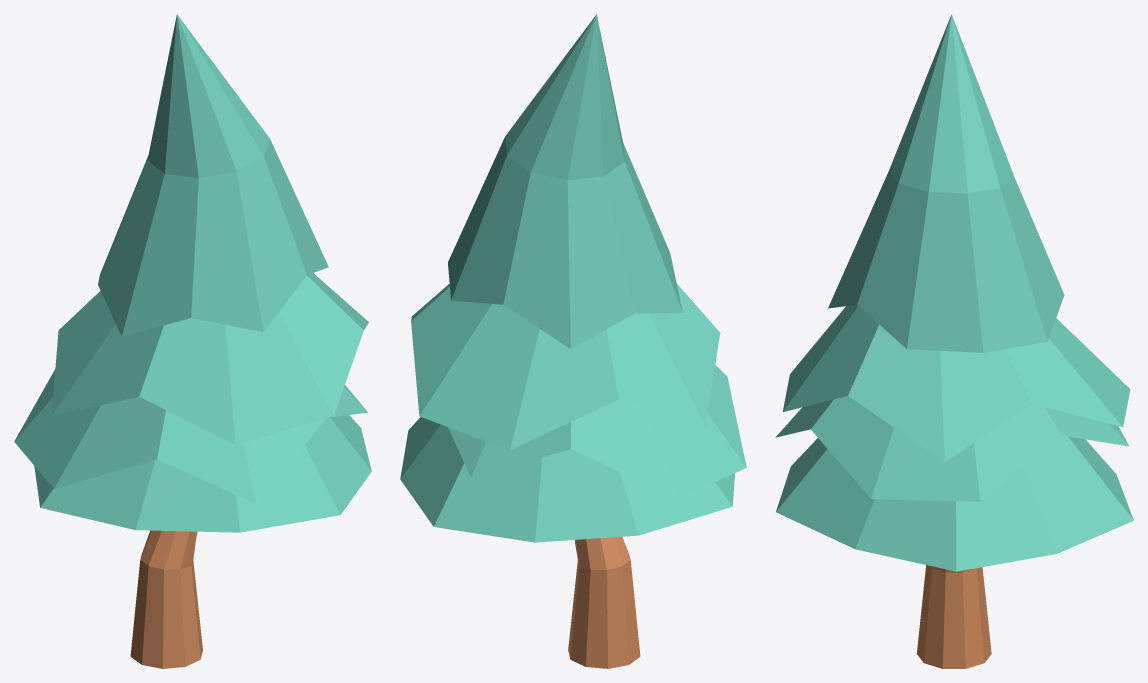
File: treeMedium.glb
3 renders of one model, left to right at view 1: azimuth 30°, elevation 25°; view 2: azimuth 150°, elevation 25°; view 3: azimuth 270°, elevation 25°, orthographic.
Parts seen in each view (by area): view 1: tree 1; view 2: tree 1; view 3: tree 1.
Boxes of the visible parts, x1=… form: tree 1: x1=14, y1=14, x2=371, y2=668; tree 1: x1=400, y1=14, x2=746, y2=668; tree 1: x1=775, y1=14, x2=1133, y2=668.
Size of the model in its own units: 4.32 by 8.08 by 4.08.
